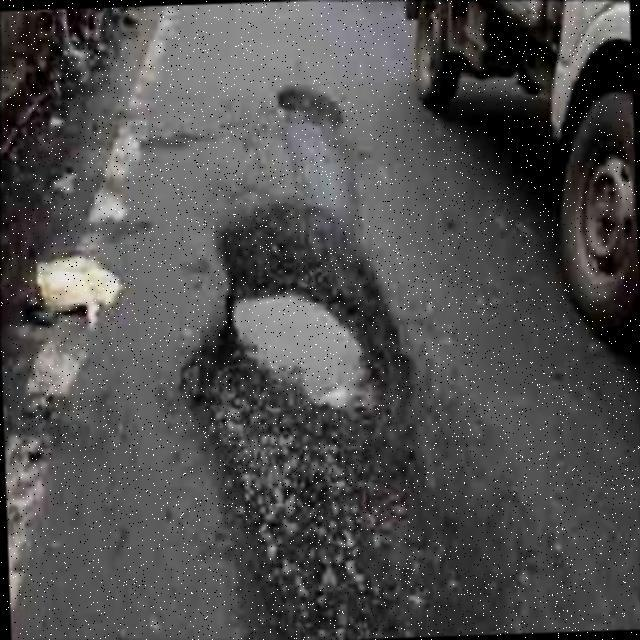Pothole: (180, 202, 465, 640)
